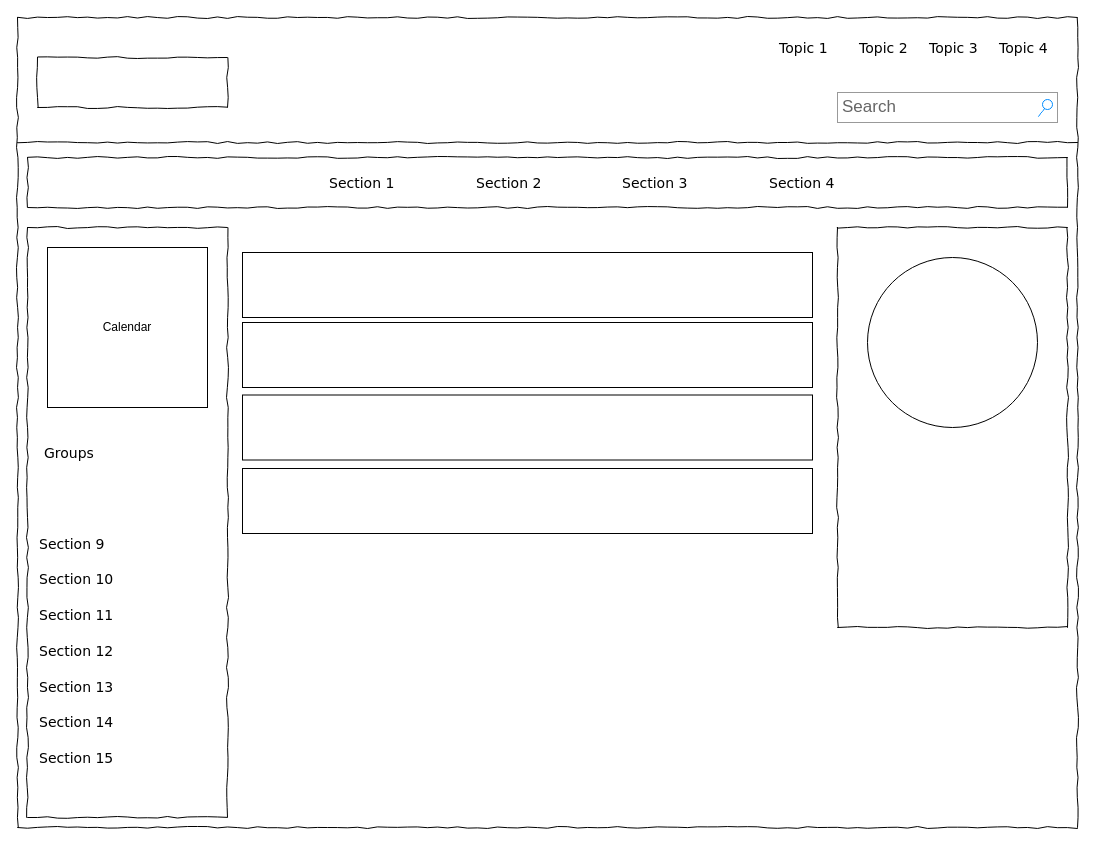
Image size: 1095x845. Some labels were removed from this diagram. The centre of each missing label's shape, as x and y in pixels:
"Chart" belongs at (952,342).
"LOGO" belongs at (132,82).
